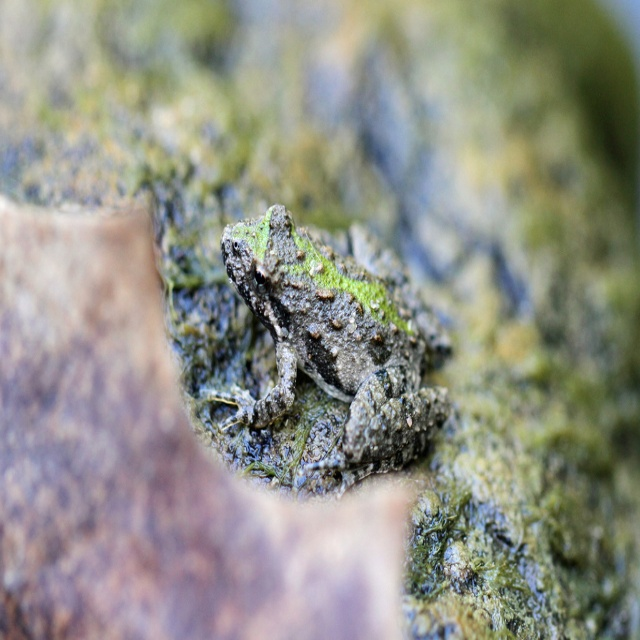Frog: (204, 206, 454, 499)
